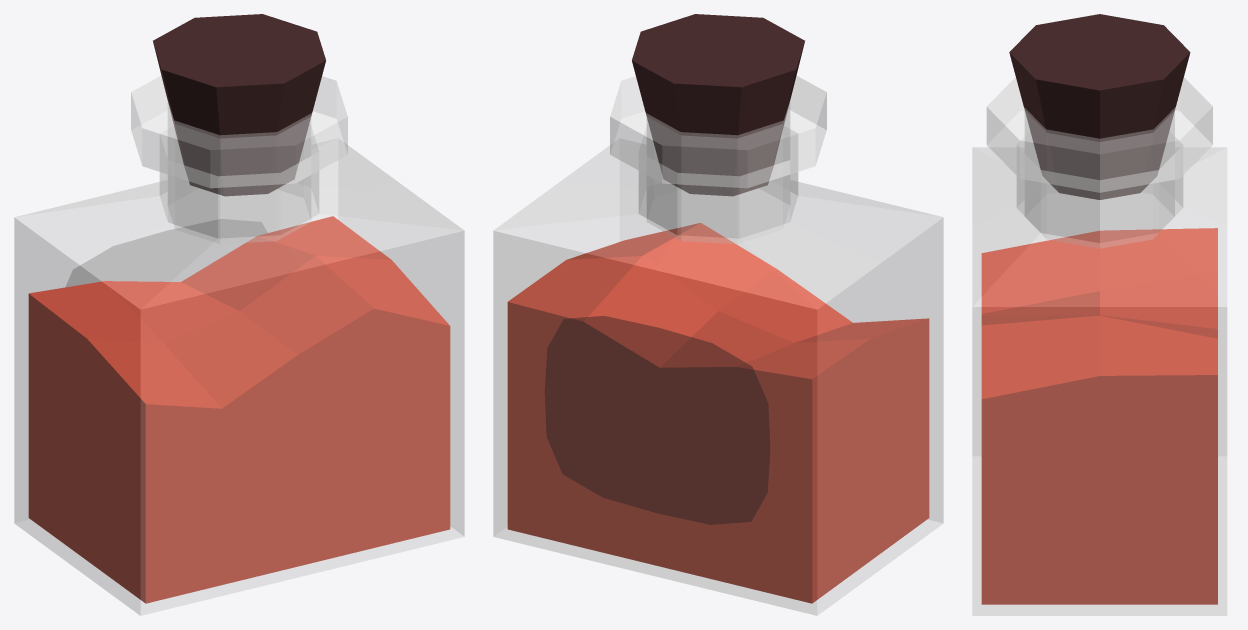
The model's file is PocaoQuadrada2.fbx.
3 renders of one model, left to right at view 1: azimuth 30°, elevation 25°; view 2: azimuth 150°, elevation 25°; view 3: azimuth 270°, elevation 25°, orthographic.
Visible parts, largest first — view 1: PoçaoQuadrada, PoçaoQuadradaLiquido; view 2: PoçaoQuadrada, PoçaoQuadradaLiquido; view 3: PoçaoQuadrada, PoçaoQuadradaLiquido.
Boxes of the visible parts, <box> form: PoçaoQuadrada: <box>14,14,464,615</box>; PoçaoQuadradaLiquido: <box>28,216,450,603</box>; PoçaoQuadrada: <box>493,14,943,615</box>; PoçaoQuadradaLiquido: <box>507,223,929,603</box>; PoçaoQuadrada: <box>972,14,1227,615</box>; PoçaoQuadradaLiquido: <box>981,228,1217,604</box>.
Bounding box in the file's own units: 49.07 × 69.36 × 33.93.
